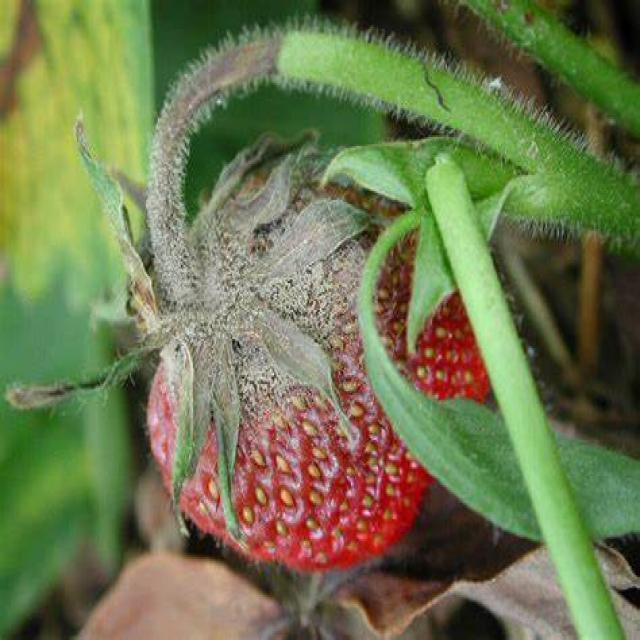Moho gris: (104, 148, 508, 568)
